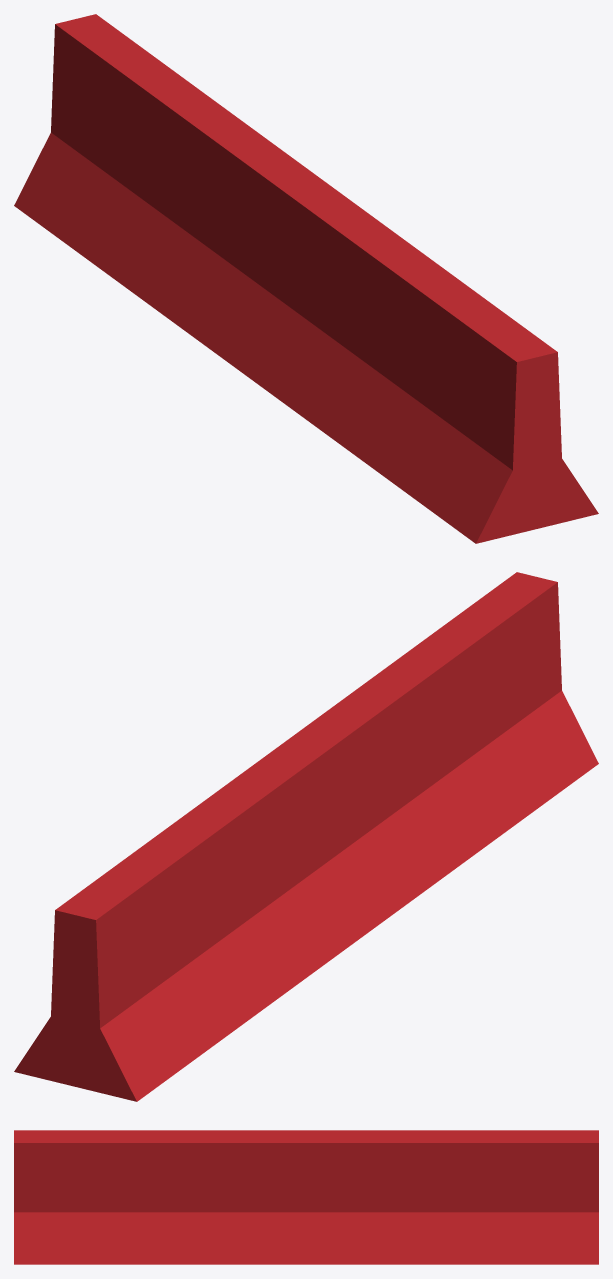
File: jersey_barrier_red.glb
3 renders of one model, top to bottom at view 1: azimuth 30°, elevation 25°; view 2: azimuth 150°, elevation 25°; view 3: azimuth 270°, elevation 25°, orthographic. The views are drawn at different scales.
Visible parts, largest first — view 1: jersey; view 2: jersey; view 3: jersey.
Part boxes in pixels (bbox=[...]): jersey: bbox=[14, 14, 598, 543]; jersey: bbox=[14, 572, 598, 1101]; jersey: bbox=[14, 1130, 598, 1264].
Size of the model in its own units: 0.6 by 0.8 by 3.9.
